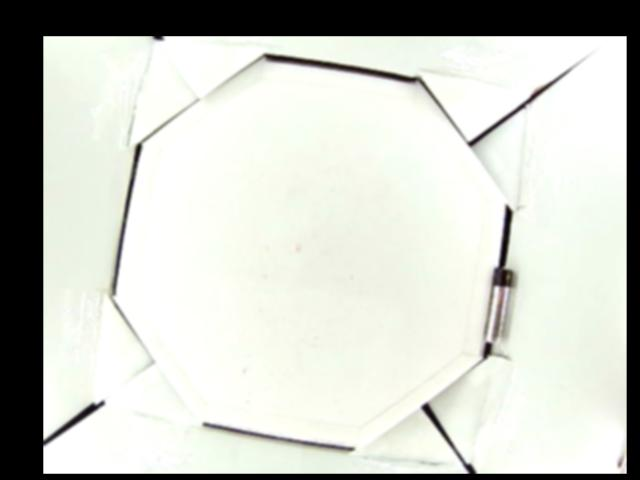Battery: (485, 268, 513, 343)
